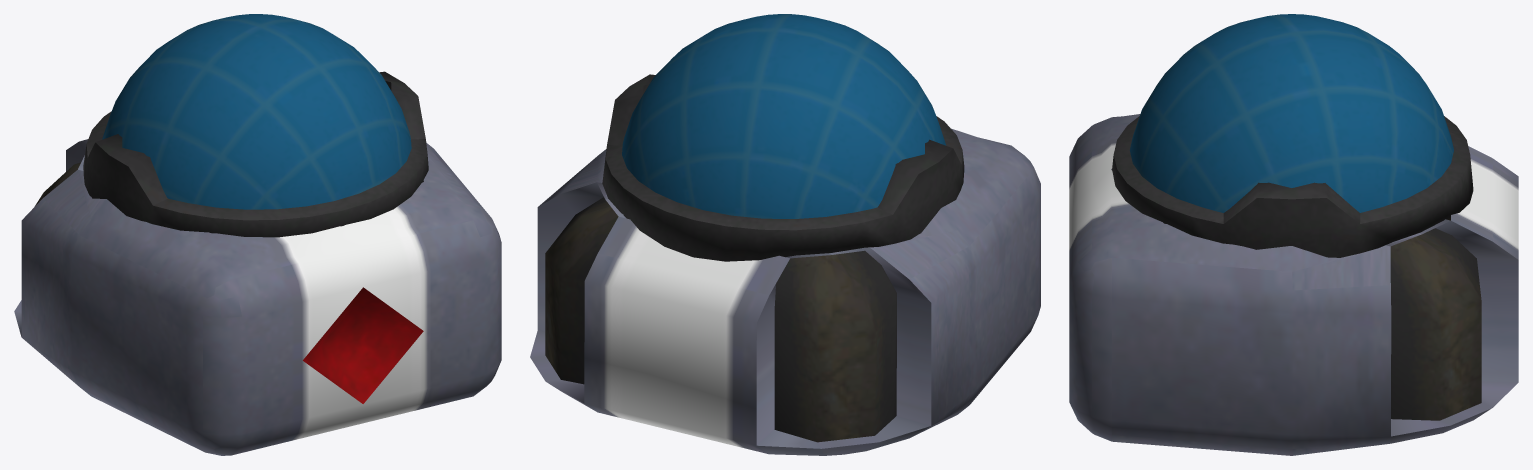
The model's file is cockpit_small.obj.
3 renders of one model, left to right at view 1: azimuth 30°, elevation 25°; view 2: azimuth 150°, elevation 25°; view 3: azimuth 270°, elevation 25°, orthographic. The views are drawn at different scales.
Parts seen in each view (by area): view 1: Cube.008_Cube.017, Sphere, Sphere.001; view 2: Cube.008_Cube.017, Sphere, Sphere.001; view 3: Cube.008_Cube.017, Sphere, Sphere.001.
Part boxes in pixels (bbox=[...]): Cube.008_Cube.017: bbox=[14, 139, 501, 455]; Sphere: bbox=[102, 14, 411, 209]; Sphere.001: bbox=[83, 71, 428, 237]; Cube.008_Cube.017: bbox=[530, 128, 1040, 455]; Sphere: bbox=[622, 14, 946, 218]; Sphere.001: bbox=[602, 74, 964, 261]; Cube.008_Cube.017: bbox=[1069, 114, 1518, 455]; Sphere: bbox=[1129, 14, 1453, 212]; Sphere.001: bbox=[1112, 116, 1473, 257].
Bounding box in the file's own units: 1.01 × 1 × 0.9987.
